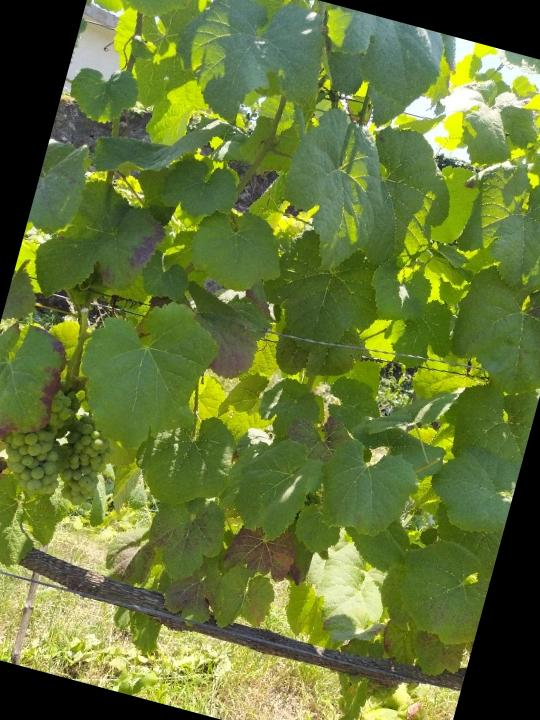grape: (0, 377, 84, 502), (54, 411, 120, 512)
